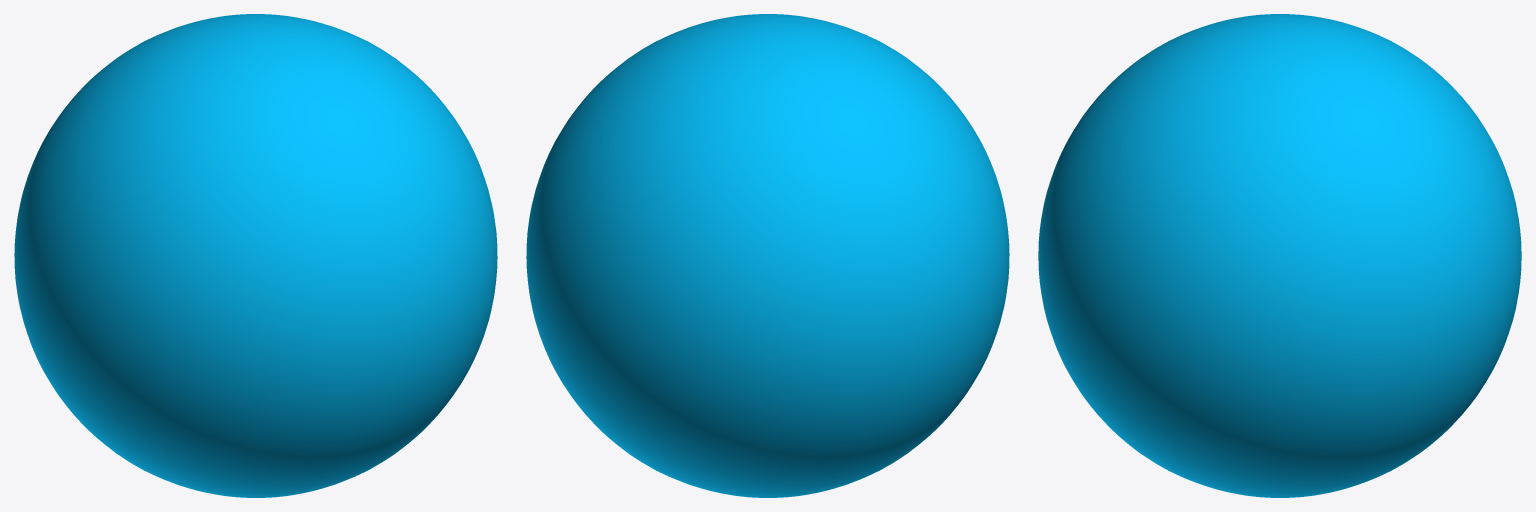
File: Abstract_Block_Hand.glb
The picture shows the model from 3 angles, left to right: view 1: azimuth 30°, elevation 25°; view 2: azimuth 150°, elevation 25°; view 3: azimuth 270°, elevation 25°; orthographic projection.
Parts seen in each view (by area): view 1: Glass Sphere_Glass Sphere_0; view 2: Glass Sphere_Glass Sphere_0; view 3: Glass Sphere_Glass Sphere_0.
Boxes of the visible parts, x1,y1,x2,y2 form: Glass Sphere_Glass Sphere_0: (14,14,497,497); Glass Sphere_Glass Sphere_0: (526,14,1009,497); Glass Sphere_Glass Sphere_0: (1038,14,1521,497).
Bounding box in the file's own units: 724 × 726 × 724.
Materials: 19 (19 with a texture image).
